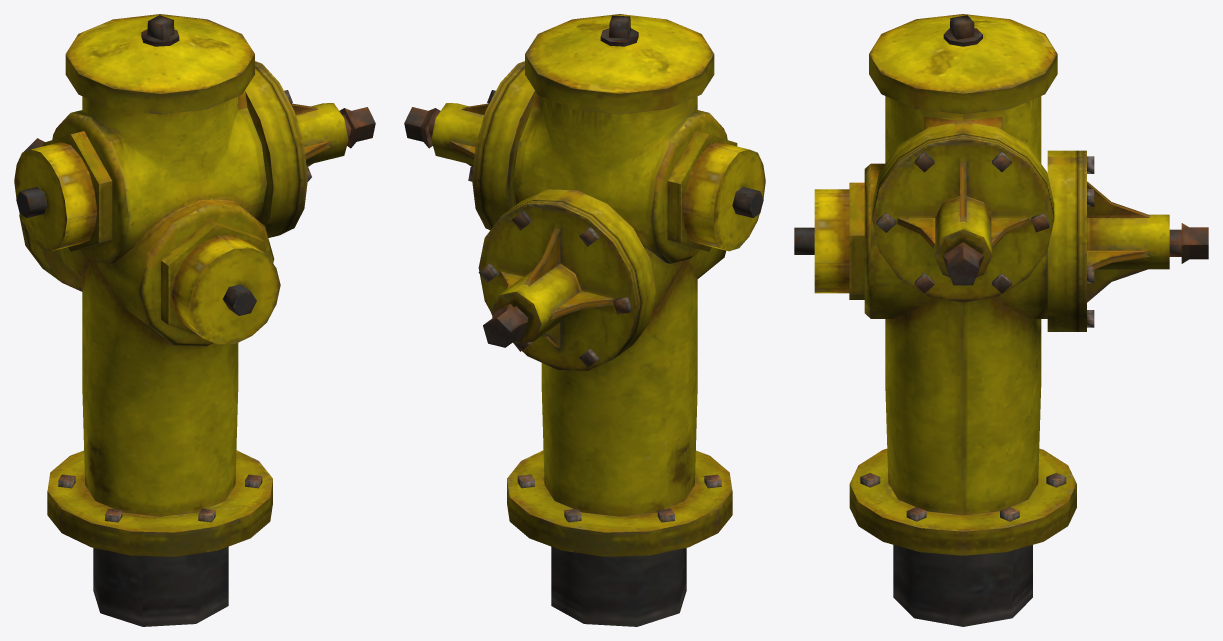
File: hydrant.glb
3 views of the same model, side by side, from view 1: azimuth 30°, elevation 25°; view 2: azimuth 150°, elevation 25°; view 3: azimuth 270°, elevation 25° (orthographic).
Visible parts, largest first — view 1: g (×2); view 2: g (×2); view 3: g (×2).
Boxes of the visible parts, x1=… form: g (×2): x1=14, y1=14, x2=375, y2=626; g (×2): x1=404, y1=14, x2=765, y2=626; g (×2): x1=794, y1=14, x2=1208, y2=626.
Size of the model in its own units: 0.6416 by 1.05 by 0.6694.
Materials: 1 (1 with a texture image).
